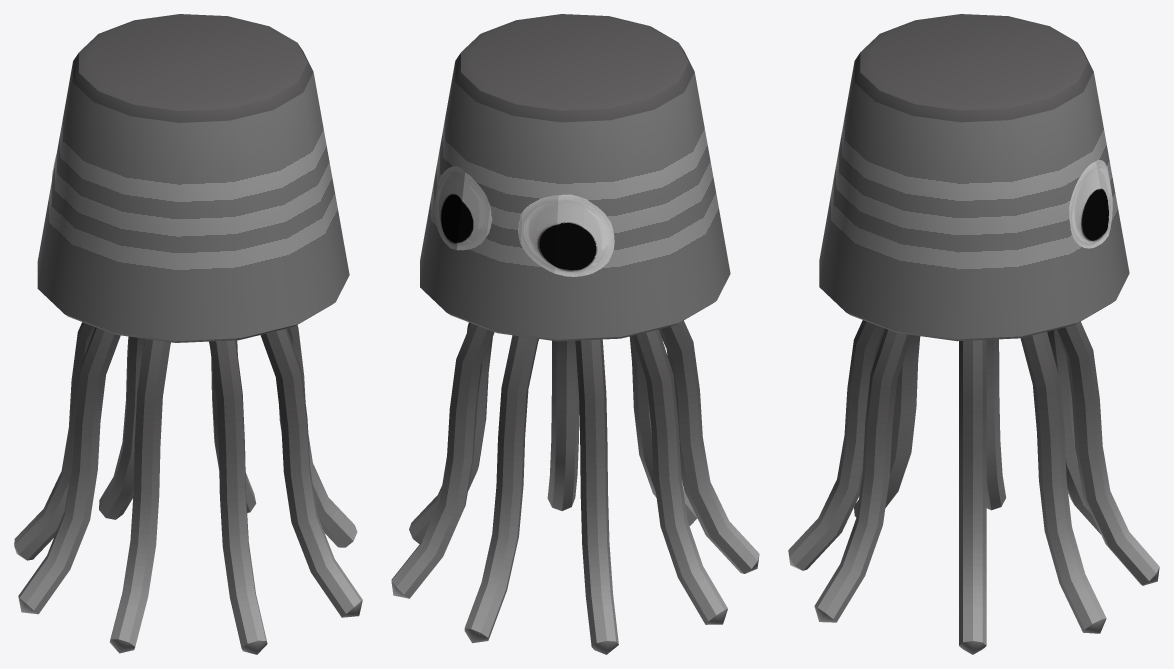
The model's file is Bucket Octopus.fbx.
3 renders of one model, left to right at view 1: azimuth 30°, elevation 25°; view 2: azimuth 150°, elevation 25°; view 3: azimuth 270°, elevation 25°, orthographic.
Parts seen in each view (by area): view 1: Bucket Octopus, Legs; view 2: Bucket Octopus, Legs, wobble eye; view 3: Bucket Octopus, Legs, wobble eye.
Boxes of the visible parts, x1,y1,x2,y2 form: Bucket Octopus: (37, 14, 349, 342); Legs: (14, 322, 362, 654); Bucket Octopus: (420, 14, 730, 341); Legs: (391, 320, 759, 654); wobble eye: (434, 166, 614, 276); Bucket Octopus: (819, 14, 1129, 341); Legs: (788, 320, 1159, 654); wobble eye: (1069, 159, 1112, 248).
Size of the model in its own units: 1.98 by 3.06 by 1.97.
